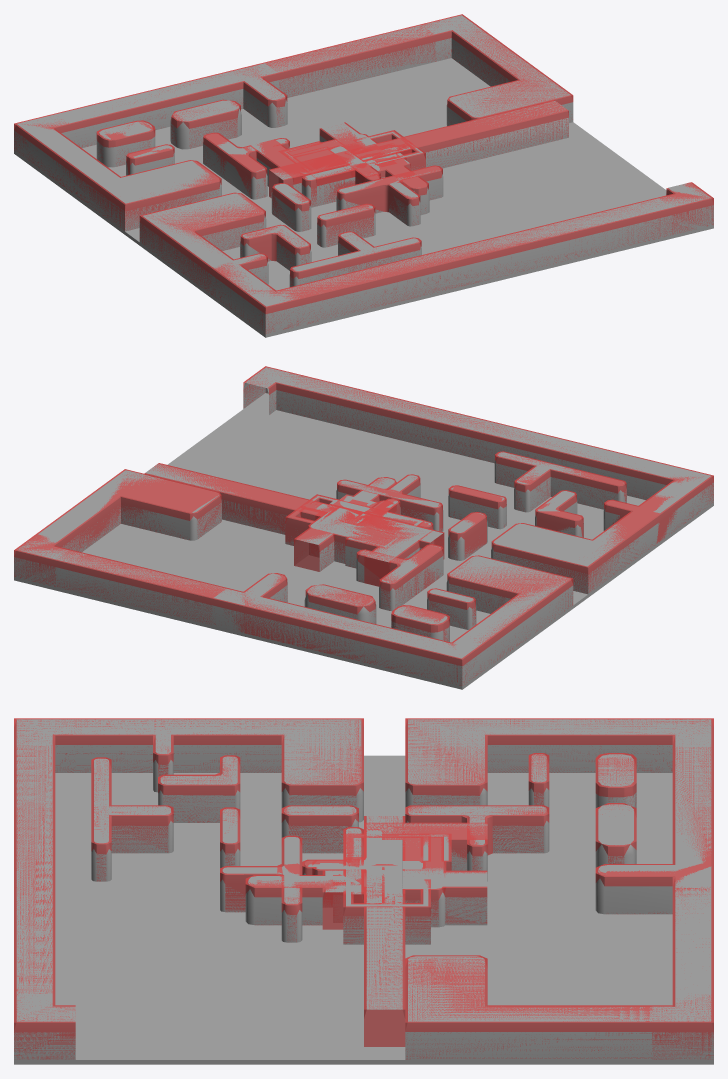
The model's file is Maze.fbx.
3 views of the same model, one above another, from view 1: azimuth 30°, elevation 25°; view 2: azimuth 150°, elevation 25°; view 3: azimuth 270°, elevation 25° (orthographic). The views are drawn at different scales.
Parts seen in each view (by area): view 1: Stage_GroundPlace, StageBorder_Mesh_09, StageBorder_Mesh_07, StageBorder_COL_09, StageBorder_Mesh_01, StageBorder_Mesh_03, StageBorder_Mesh_04, StageBorder_Mesh_06, Stage_ModularMesh_23, StageBorder_COL_07, Stage_ModularMesh_23_COL, StageBorder_COL_04 (+40 smaller); view 2: Stage_GroundPlace, StageBorder_Mesh_09, StageBorder_Mesh_07, StageBorder_Mesh_03, StageBorder_Mesh_06, StageBorder_Mesh_01, StageBorder_COL_09, StageBorder_Mesh_04, StageBorder_COL_06, StageBorder_COL_07, StageBorder_COL_03, StageBorder_COL_04 (+38 smaller); view 3: Stage_GroundPlace, StageBorder_Mesh_07, StageBorder_Mesh_06, StageBorder_Mesh_01, StageBorder_COL_06, StageBorder_Mesh_09, StageBorder_Mesh_03, StageBorder_COL_07, StageBorder_COL_09, StageBorder_COL_01, Stage_Mesh_03, Stage_Mesh_06 (+43 smaller).
Boxes of the visible parts, x1,y1,x2,y2 form: Stage_GroundPlace: (14, 58, 713, 337); StageBorder_Mesh_09: (294, 198, 672, 323); StageBorder_Mesh_07: (139, 193, 268, 317); StageBorder_COL_09: (293, 197, 672, 323); StageBorder_Mesh_01: (36, 134, 221, 231); StageBorder_Mesh_03: (57, 63, 287, 147); StageBorder_Mesh_04: (265, 25, 435, 97); StageBorder_Mesh_06: (446, 31, 573, 126); Stage_ModularMesh_23: (377, 101, 568, 168); StageBorder_COL_07: (139, 192, 268, 317); Stage_ModularMesh_23_COL: (349, 100, 568, 167); StageBorder_COL_04: (264, 24, 435, 97); Stage_GroundPlace: (14, 393, 713, 689); StageBorder_Mesh_09: (292, 377, 670, 499); StageBorder_Mesh_07: (491, 486, 691, 594); StageBorder_Mesh_03: (212, 573, 434, 676); StageBorder_Mesh_06: (38, 470, 221, 552); StageBorder_Mesh_01: (446, 556, 573, 669); StageBorder_COL_09: (292, 376, 671, 499); StageBorder_Mesh_04: (55, 550, 225, 625); StageBorder_COL_06: (36, 469, 221, 551); StageBorder_COL_07: (491, 485, 691, 593); StageBorder_COL_03: (212, 573, 434, 675); StageBorder_COL_04: (55, 549, 226, 624); Stage_GroundPlace: (14, 755, 713, 1064); StageBorder_Mesh_07: (75, 719, 363, 822); StageBorder_Mesh_06: (405, 956, 652, 1059); StageBorder_Mesh_01: (405, 719, 652, 807); StageBorder_COL_06: (405, 955, 652, 1059); StageBorder_Mesh_09: (14, 746, 54, 1001); StageBorder_Mesh_03: (595, 746, 713, 914); StageBorder_COL_07: (75, 718, 363, 805); StageBorder_COL_09: (14, 746, 55, 994); StageBorder_COL_01: (405, 718, 652, 805); Stage_Mesh_03: (91, 758, 173, 881); Stage_Mesh_06: (405, 806, 549, 881).
Size of the model in its own units: 2100 by 135 by 2040.
